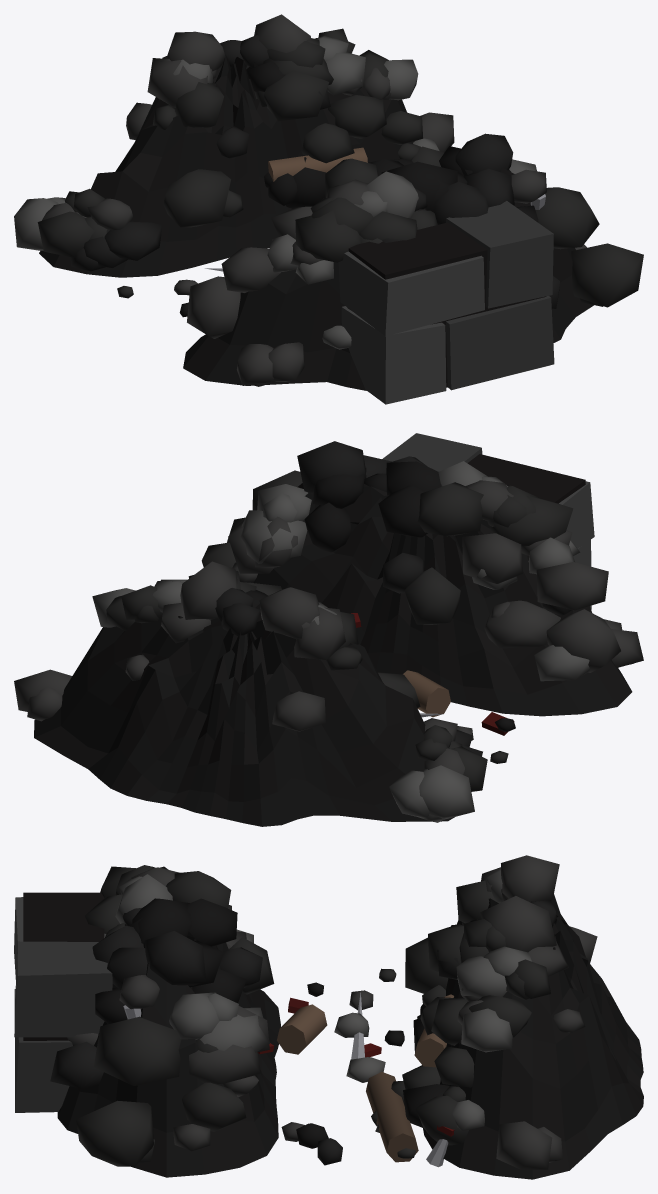
Rendered from TarWall01a.glb.
The picture shows the model from 3 angles, top to bottom: view 1: azimuth 30°, elevation 25°; view 2: azimuth 150°, elevation 25°; view 3: azimuth 270°, elevation 25°; orthographic projection. The views are drawn at different scales.
Parts seen in each view (by area): view 1: TarWall01a_rub0; view 2: TarWall01a_rub0; view 3: TarWall01a_rub0.
Boxes of the visible parts, bbox=[...] form: TarWall01a_rub0: bbox=[14, 14, 643, 404]; TarWall01a_rub0: bbox=[14, 433, 643, 826]; TarWall01a_rub0: bbox=[14, 855, 643, 1179].
Size of the model in its own units: 4.87 by 2.11 by 5.68.
